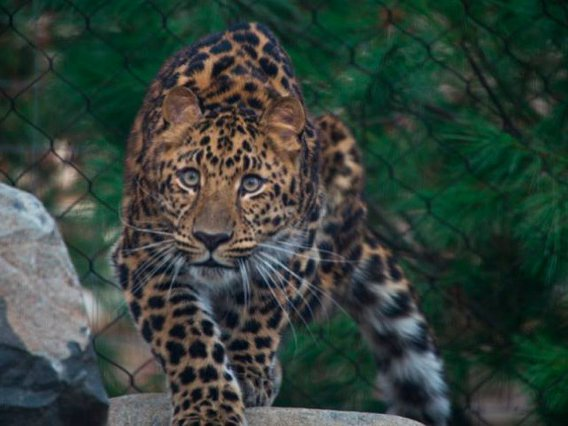amur_leopard: (82, 12, 457, 426)
